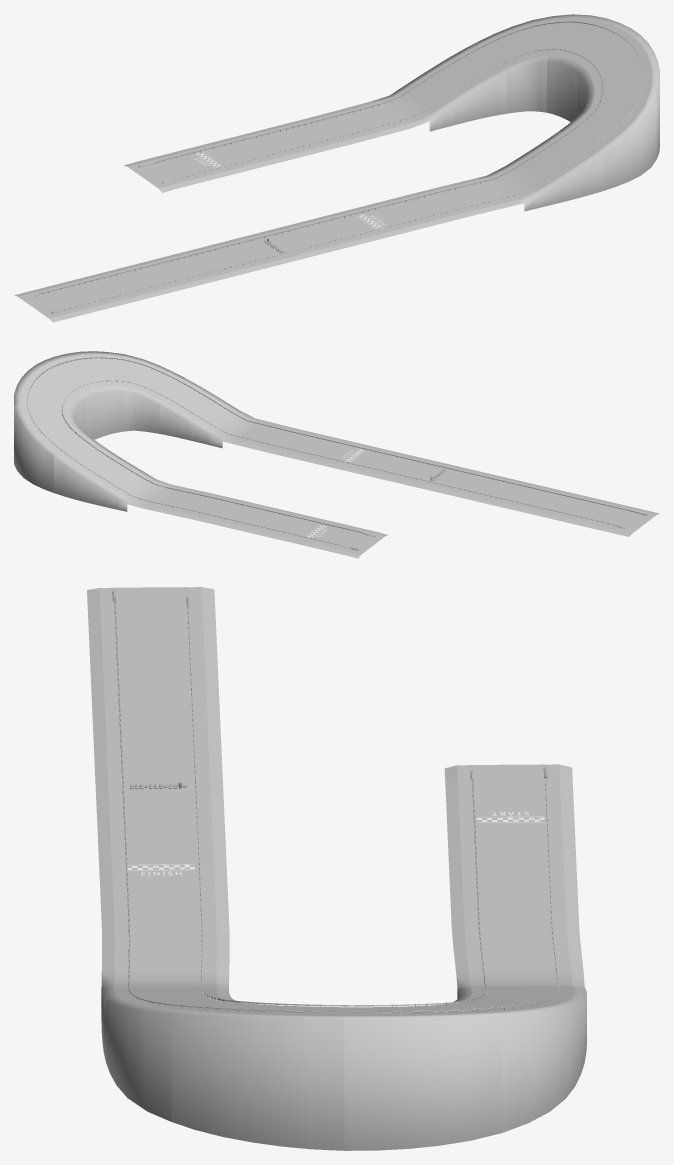
Rendered from Road30D20.fbx.
3 renders of one model, top to bottom at view 1: azimuth 30°, elevation 25°; view 2: azimuth 150°, elevation 25°; view 3: azimuth 270°, elevation 25°, orthographic. The views are drawn at different scales.
Visible parts, largest first — view 1: Markers0.014, Markers7.014, Markers2.014, SCutL7.014, SCutR3.014, SCutR2.014, Markers1.014, Markers8.014, SCutL6.014, SCutR0.014, SCutL5.014, Markers4.014 (+19 smaller); view 2: Markers0.014, SCutR7.014, Markers7.014, Markers2.014, SCutR6.014, Markers1.014, SCutL2.014, SCutL4.014, Markers8.014, SCutL0.014, SCutL3.014, Markers4.014 (+19 smaller); view 3: SCutR4.014, SCutR5.014, Markers0.014, Markers1.014, SCutR6.014, Markers8.014, SCutR3.014, Markers2.014, SCutR0.014, SCutL0.014, Markers7.014, Markers9.014 (+13 smaller).
Part boxes in pixels (bbox=[...]): Markers0.014: bbox=[22, 240, 279, 315]; Markers7.014: bbox=[330, 47, 499, 134]; Markers2.014: bbox=[419, 135, 593, 214]; SCutL7.014: bbox=[353, 66, 506, 141]; SCutR3.014: bbox=[594, 94, 656, 190]; SCutR2.014: bbox=[442, 148, 603, 221]; Markers1.014: bbox=[258, 199, 441, 255]; Markers8.014: bbox=[206, 119, 352, 166]; SCutL6.014: bbox=[500, 50, 551, 113]; SCutR0.014: bbox=[45, 255, 288, 322]; SCutL5.014: bbox=[547, 50, 590, 121]; Markers4.014: bbox=[591, 42, 643, 100]; Markers0.014: bbox=[432, 470, 652, 530]; SCutR7.014: bbox=[54, 452, 193, 518]; Markers7.014: bbox=[63, 442, 210, 511]; Markers2.014: bbox=[166, 383, 310, 450]; SCutR6.014: bbox=[14, 405, 62, 492]; Markers1.014: bbox=[295, 437, 449, 483]; SCutL2.014: bbox=[159, 398, 292, 456]; SCutL4.014: bbox=[75, 381, 124, 439]; Markers8.014: bbox=[194, 498, 317, 536]; SCutL0.014: bbox=[426, 483, 635, 536]; SCutL3.014: bbox=[121, 382, 164, 433]; Markers4.014: bbox=[46, 359, 120, 390]; SCutR4.014: bbox=[171, 1009, 345, 1150]; SCutR5.014: bbox=[344, 1011, 501, 1150]; Markers0.014: bbox=[114, 587, 195, 783]; Markers1.014: bbox=[123, 783, 201, 918]; SCutR6.014: bbox=[485, 1000, 580, 1132]; Markers8.014: bbox=[474, 826, 551, 930]; SCutR3.014: bbox=[106, 997, 189, 1121]; Markers2.014: bbox=[129, 917, 204, 997]; SCutR0.014: bbox=[87, 587, 122, 786]; SCutL0.014: bbox=[187, 587, 222, 785]; Markers7.014: bbox=[479, 929, 558, 999]; Markers9.014: bbox=[472, 764, 547, 826].
Size of the model in its own units: 26688 by 2983 by 10295.
